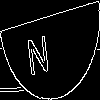N: (25, 24, 51, 77)
